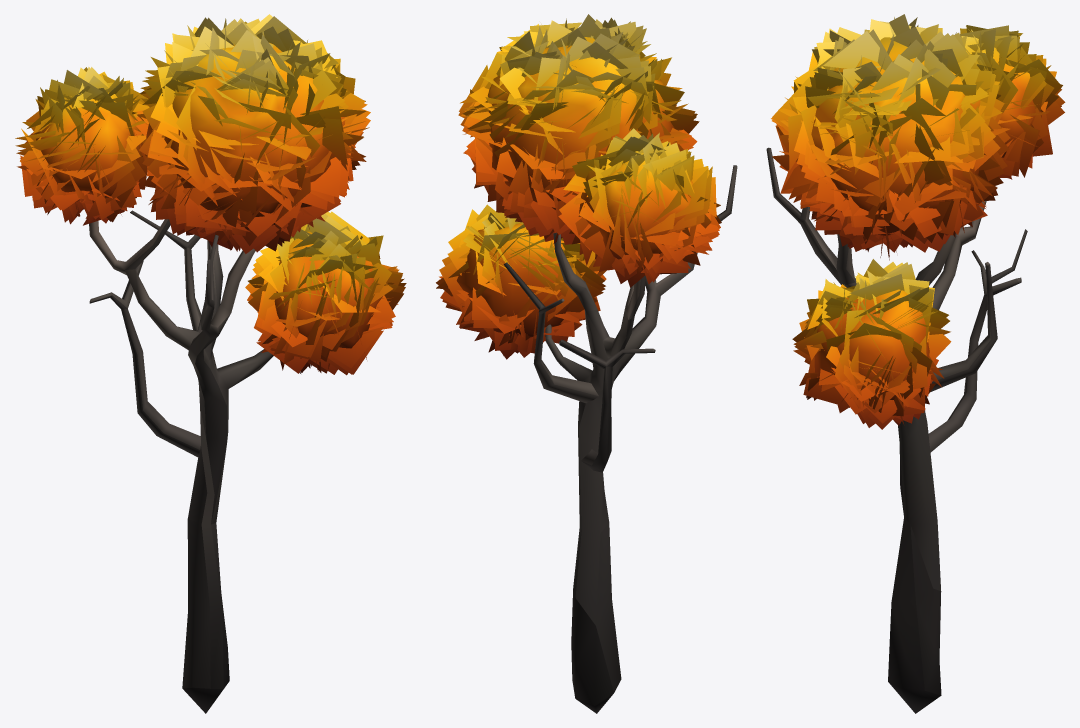
File: Forest_Tree_4C.fbx
3 views of the same model, side by side, from view 1: azimuth 30°, elevation 25°; view 2: azimuth 150°, elevation 25°; view 3: azimuth 270°, elevation 25° (orthographic). The views are drawn at different scales.
Parts seen in each view (by area): view 1: Forest_Tree_4C; view 2: Forest_Tree_4C; view 3: Forest_Tree_4C.
Part boxes in pixels (x1=…): Forest_Tree_4C: x1=15, y1=14, x2=406, y2=713; Forest_Tree_4C: x1=436, y1=14, x2=737, y2=713; Forest_Tree_4C: x1=766, y1=14, x2=1065, y2=713.
Bounding box in the file's own units: 385 × 783 × 303.
